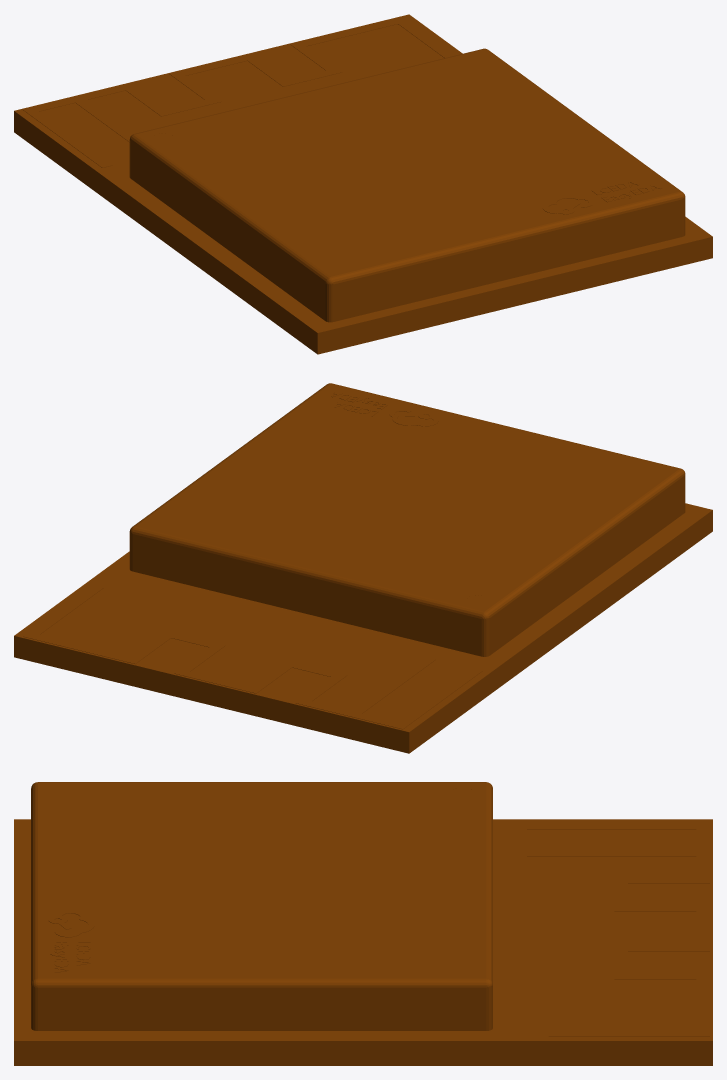
Rendered from ESP32-S3-MINI-1-N8.dae.
The picture shows the model from 3 angles, top to bottom: view 1: azimuth 30°, elevation 25°; view 2: azimuth 150°, elevation 25°; view 3: azimuth 270°, elevation 25°; orthographic projection. The views are drawn at different scales.
Parts seen in each view (by area): view 1: node0; view 2: node0; view 3: node0.
Boxes of the visible parts, x1,y1,x2,y2 form: node0: [14, 14, 712, 354]; node0: [14, 383, 712, 753]; node0: [14, 782, 712, 1065].
Size of the model in its own units: 0.0154 by 0.0205 by 0.00243.
